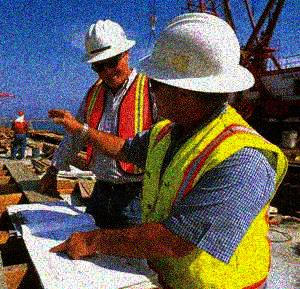helmet: (135, 10, 257, 122), (78, 16, 137, 89), (16, 110, 25, 121)
